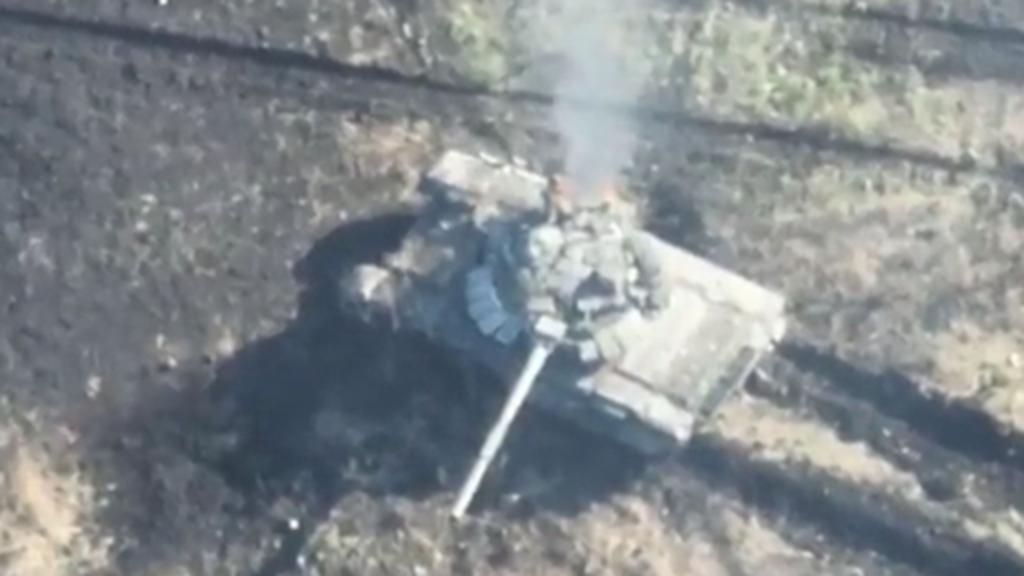TANK: (338, 132, 798, 532)
